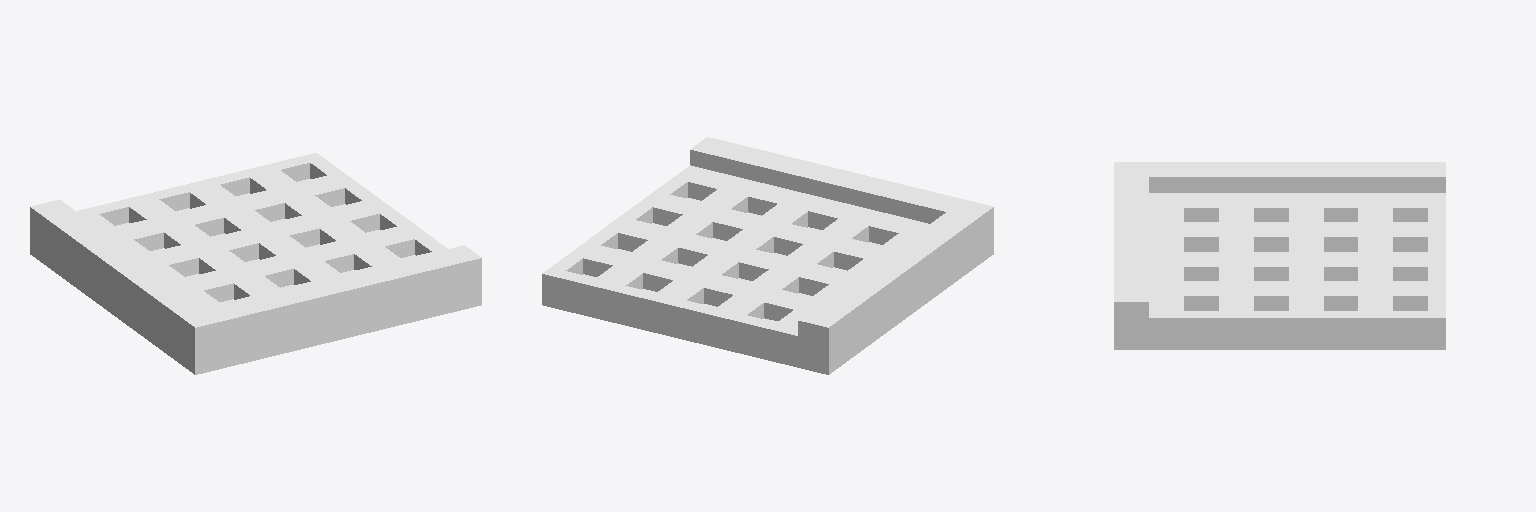
The model's file is cubierta_4.obj.
3 views of the same model, side by side, from view 1: azimuth 30°, elevation 25°; view 2: azimuth 150°, elevation 25°; view 3: azimuth 270°, elevation 25° (orthographic).
Bounding box in the file's own units: 19 × 3 × 19.